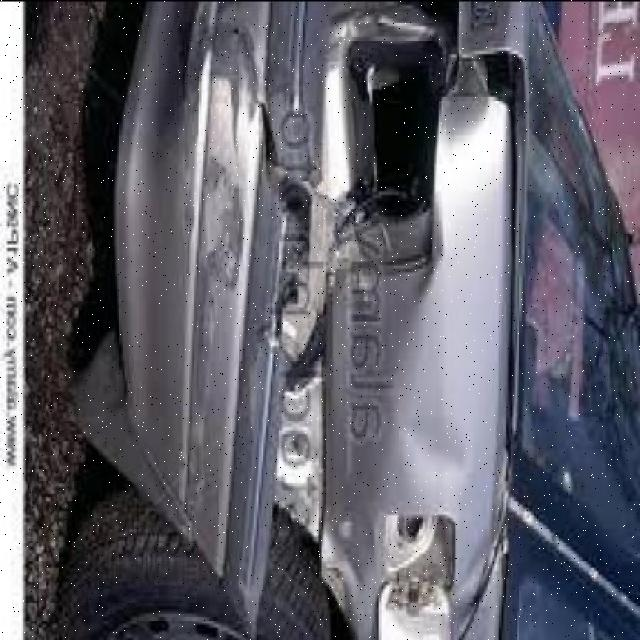damage: (65, 0, 532, 623)
